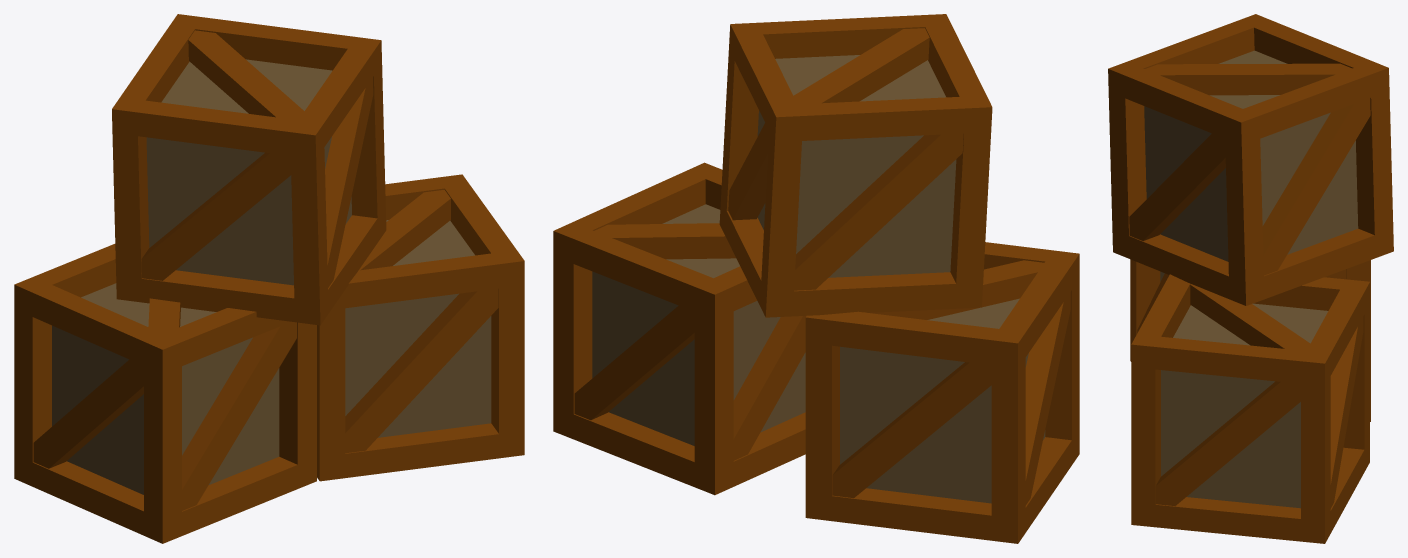
The model's file is SM_2x1_Creates.fbx.
3 renders of one model, left to right at view 1: azimuth 30°, elevation 25°; view 2: azimuth 150°, elevation 25°; view 3: azimuth 270°, elevation 25°, orthographic. The views are drawn at different scales.
Visible parts, largest first — view 1: pCube71; view 2: pCube71; view 3: pCube71.
Boxes of the visible parts, x1,y1,x2,y2 form: pCube71: [14, 14, 524, 543]; pCube71: [553, 14, 1079, 543]; pCube71: [1108, 14, 1393, 543].
Bounding box in the file's own units: 184 × 153 × 109.
